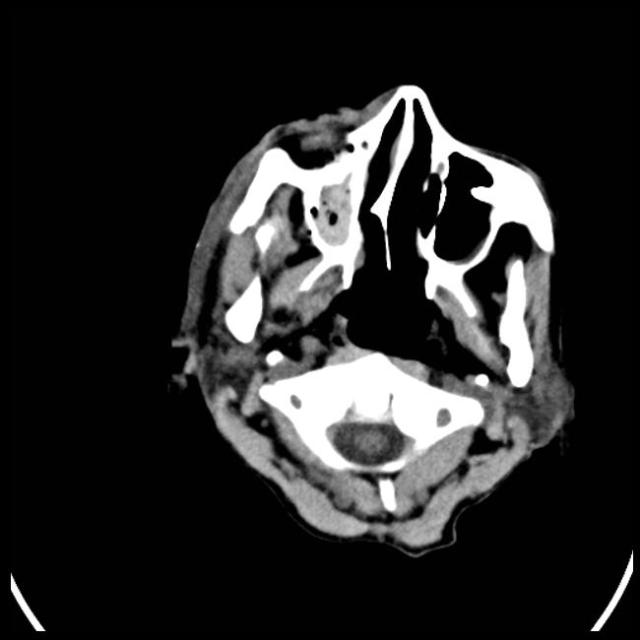lesion: (167, 80, 580, 559)
